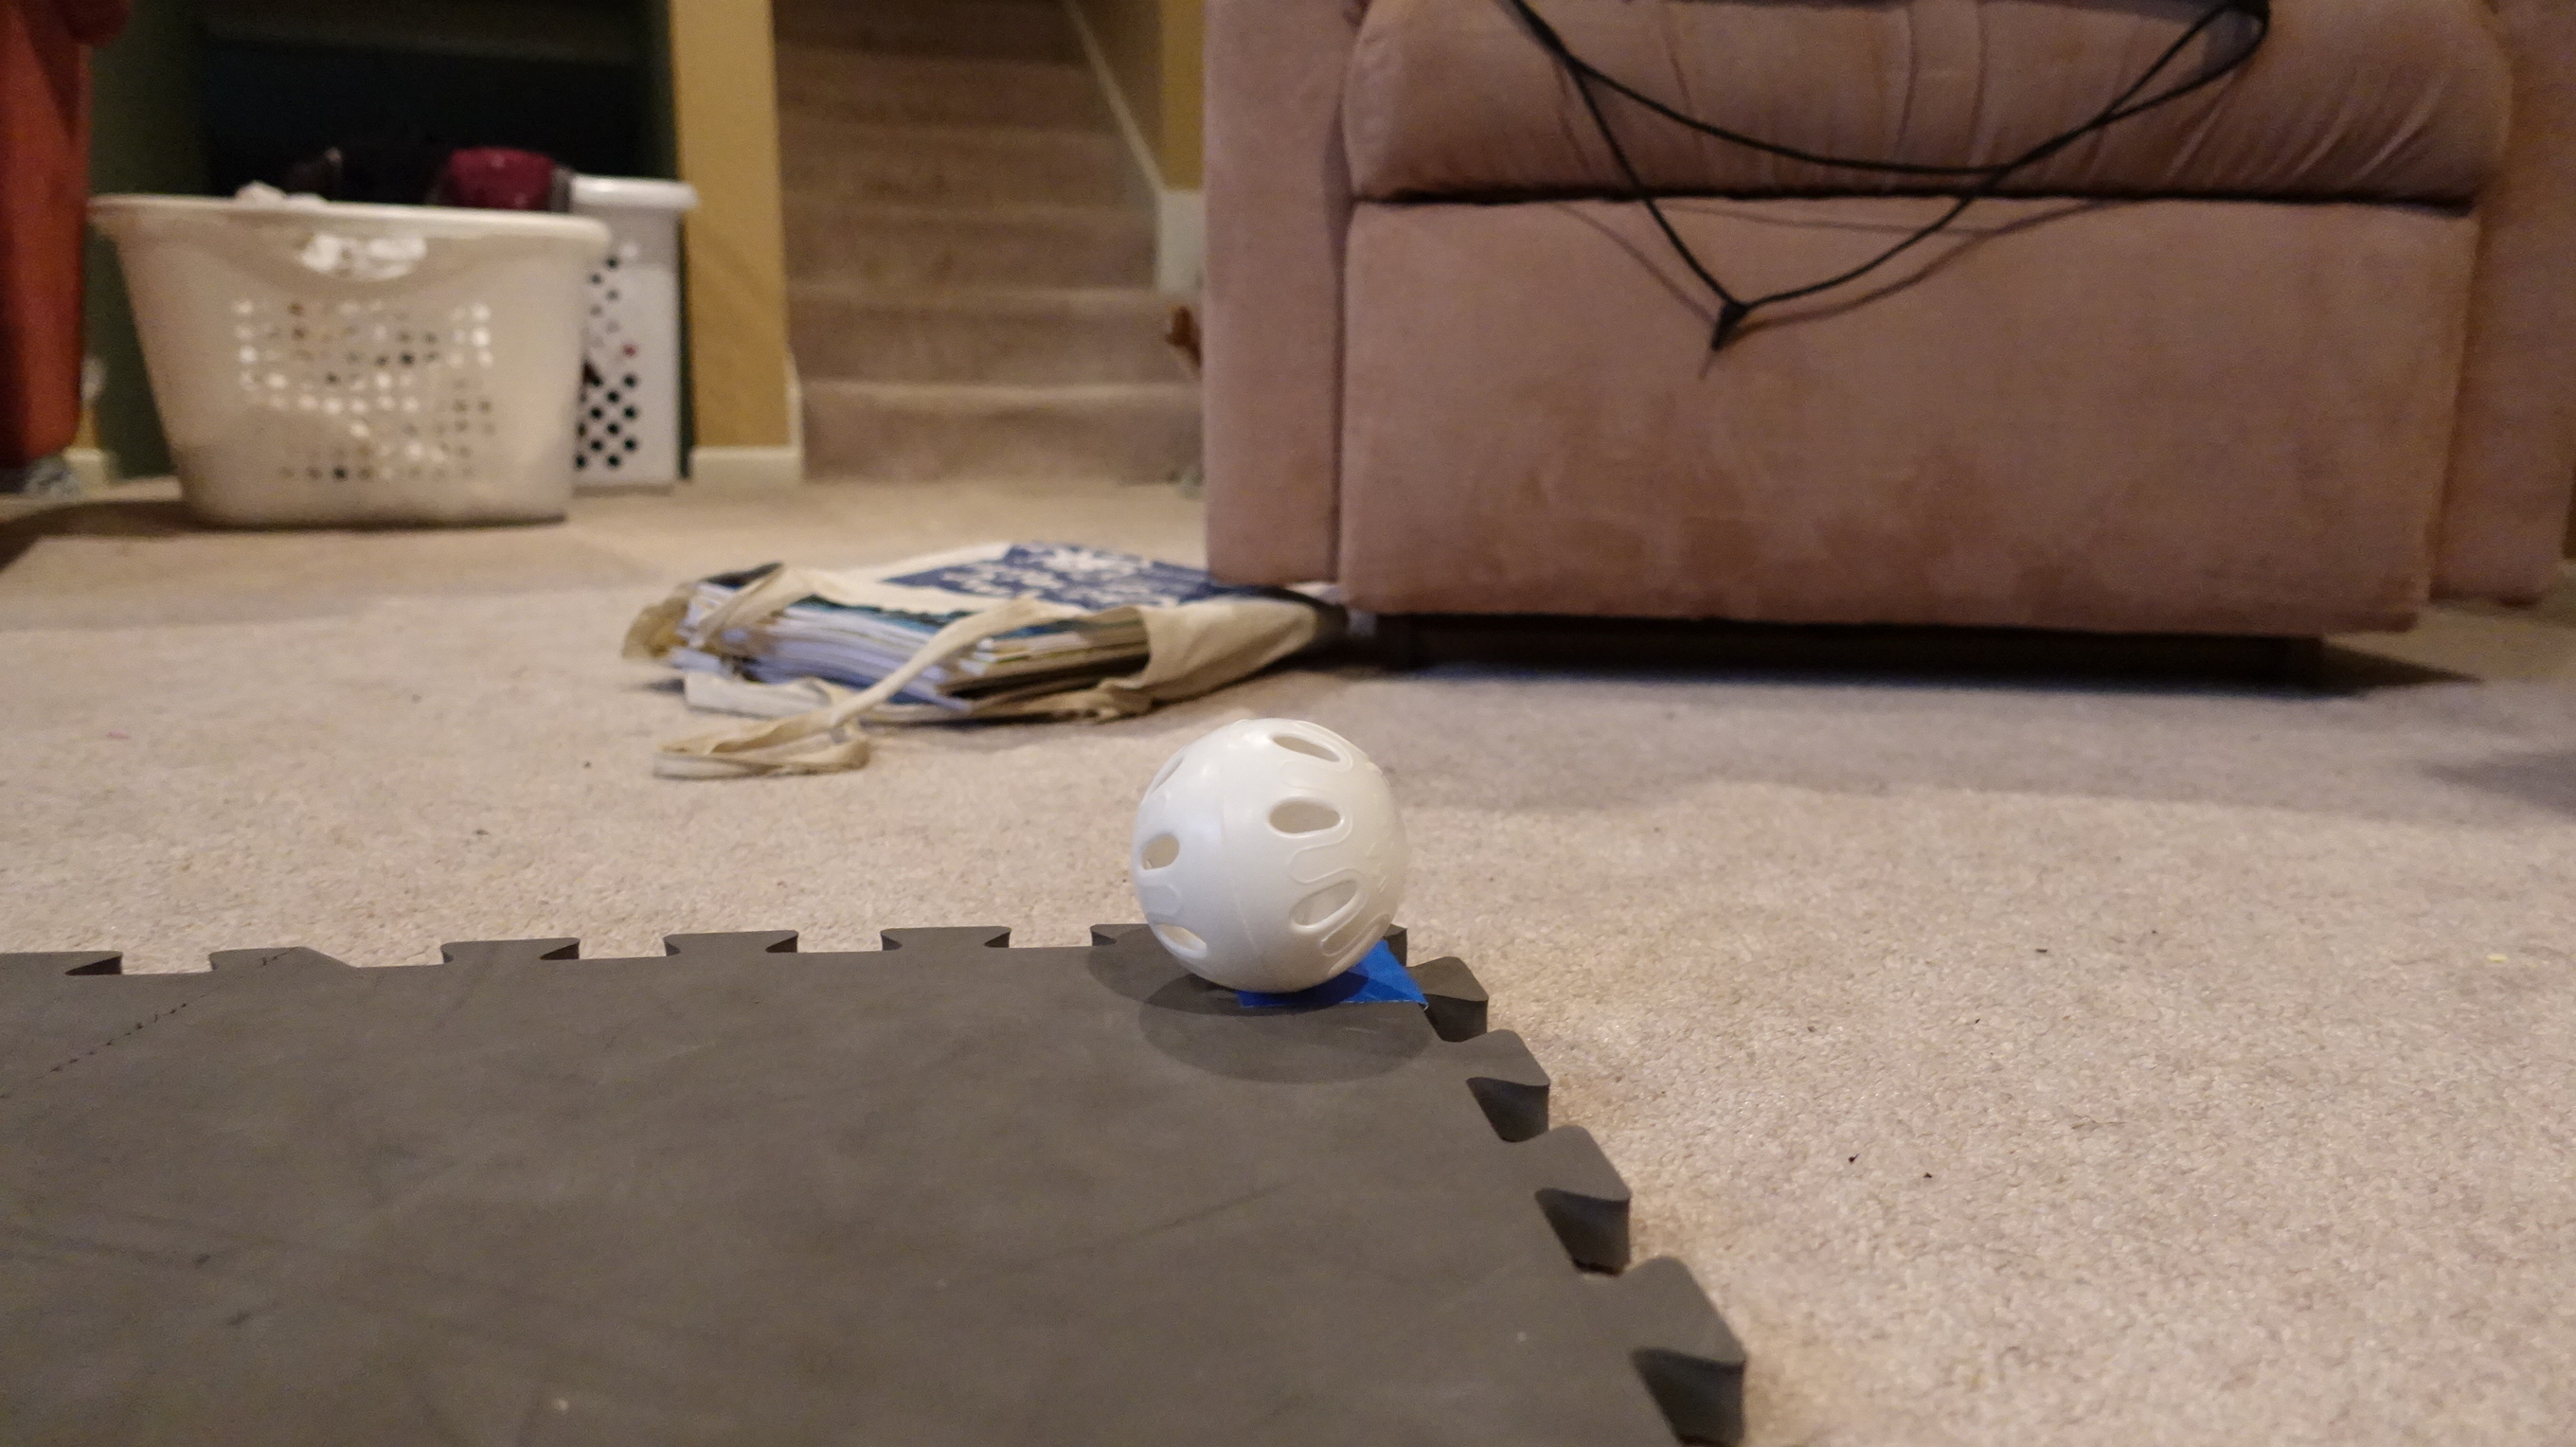silver: (1125, 718, 1405, 999)
